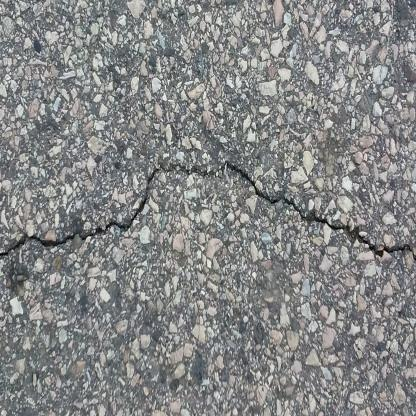Cracks: (0, 161, 416, 381)
